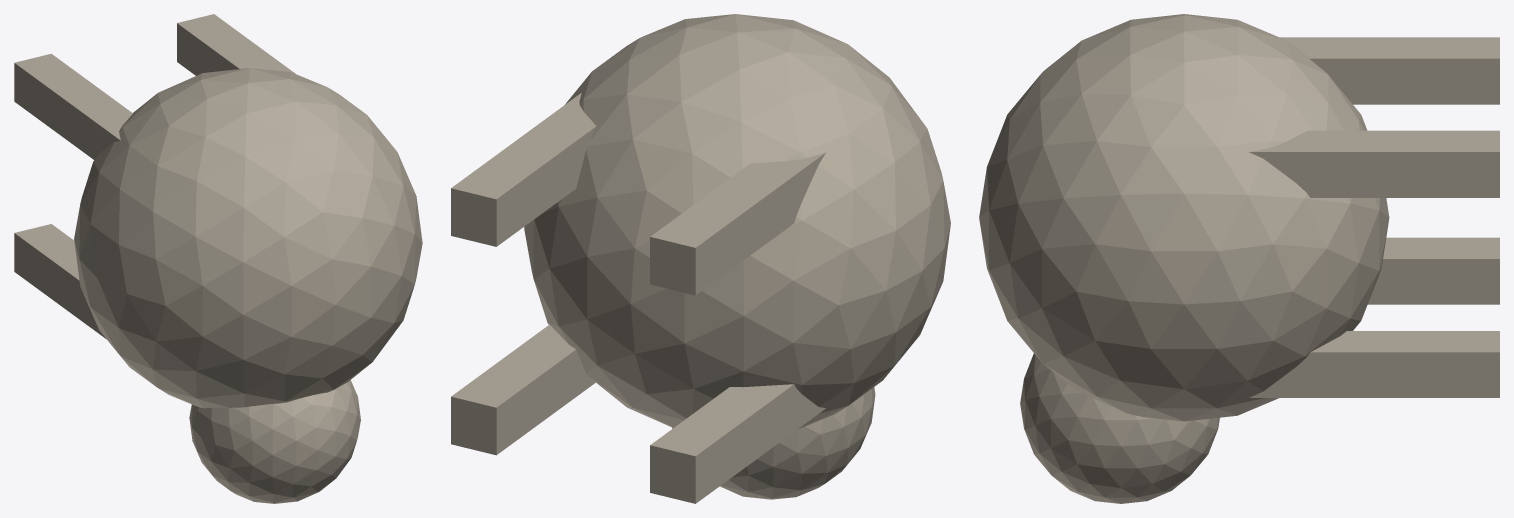
Rendered from goat.glb.
The picture shows the model from 3 angles, left to right: view 1: azimuth 30°, elevation 25°; view 2: azimuth 150°, elevation 25°; view 3: azimuth 270°, elevation 25°; orthographic projection. The views are drawn at different scales.
Visible parts, largest first — view 1: body, head, leg_-0.35_0.35, leg_-0.35_-0.35, leg_0.35_0.35; view 2: body, leg_-0.35_0.35, leg_-0.35_-0.35, leg_0.35_0.35, leg_0.35_-0.35, head; view 3: body, head, leg_0.35_0.35, leg_0.35_-0.35, leg_-0.35_0.35, leg_-0.35_-0.35.
Part boxes in pixels (x1=…): body: x1=74, y1=68, x2=422, y2=408; head: x1=189, y1=380, x2=360, y2=503; leg_-0.35_0.35: x1=14, y1=53, x2=132, y2=159; leg_-0.35_-0.35: x1=14, y1=224, x2=105, y2=338; leg_0.35_0.35: x1=177, y1=14, x2=295, y2=75; body: x1=524, y1=14, x2=950, y2=429; leg_-0.35_0.35: x1=650, y1=152, x2=825, y2=295; leg_-0.35_-0.35: x1=650, y1=384, x2=825, y2=503; leg_0.35_0.35: x1=451, y1=93, x2=596, y2=246; leg_0.35_-0.35: x1=451, y1=324, x2=595, y2=455; head: x1=672, y1=387, x2=875, y2=499; body: x1=979, y1=14, x2=1389, y2=421; head: x1=1020, y1=353, x2=1219, y2=503; leg_0.35_0.35: x1=1249, y1=130, x2=1499, y2=197; leg_0.35_-0.35: x1=1249, y1=331, x2=1499, y2=397; leg_-0.35_0.35: x1=1280, y1=37, x2=1499, y2=104; leg_-0.35_-0.35: x1=1367, y1=237, x2=1499, y2=304.
Size of the model in its own units: 1.3 by 1.62 by 1.65.
